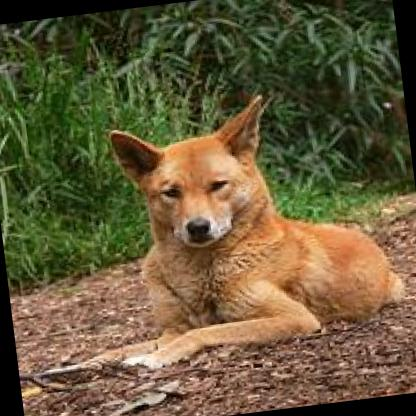dingo: (41, 79, 414, 370)
